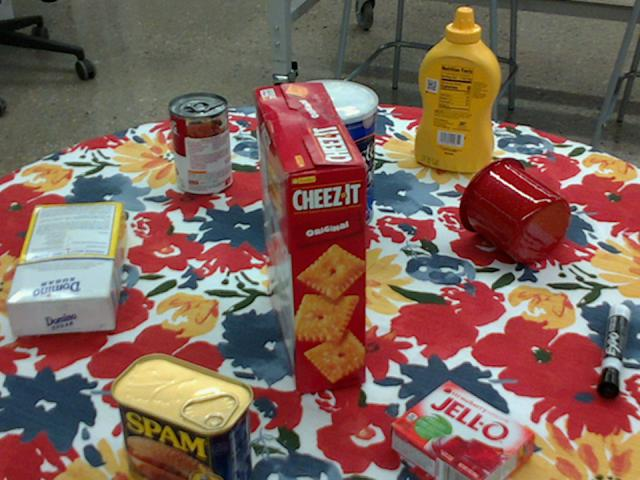cracker_box: (253, 85, 363, 394)
gelatin_box: (390, 380, 536, 479)
large_marker: (597, 302, 630, 395)
master_chef_can: (280, 79, 377, 236)
mug: (458, 156, 570, 263)
mustard_bottle: (414, 9, 499, 172)
potted_meat_can: (107, 354, 250, 479)
sugar_box: (7, 204, 126, 335)
tomato_soup_can: (168, 93, 231, 196)
tuna_fish_can: (291, 115, 358, 167)
